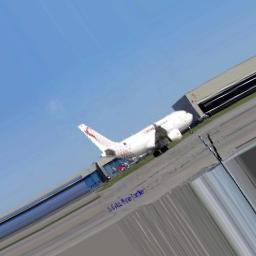Airplane: (76, 110, 195, 161)
